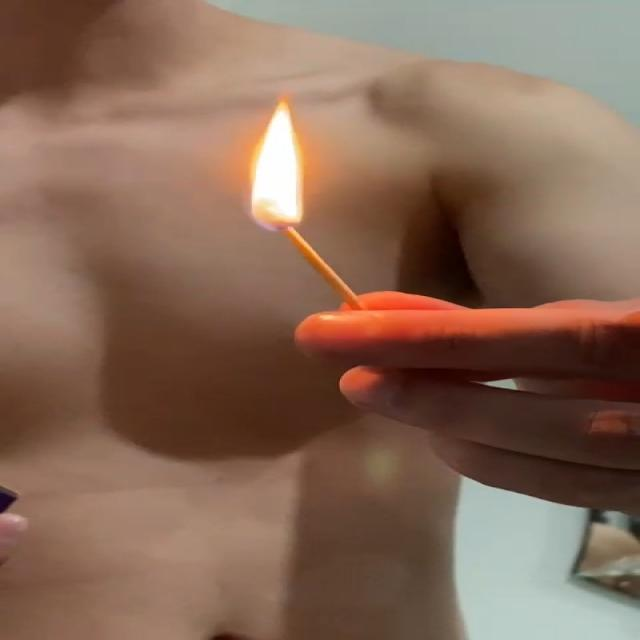fogo-ypXI: (248, 84, 310, 232)
